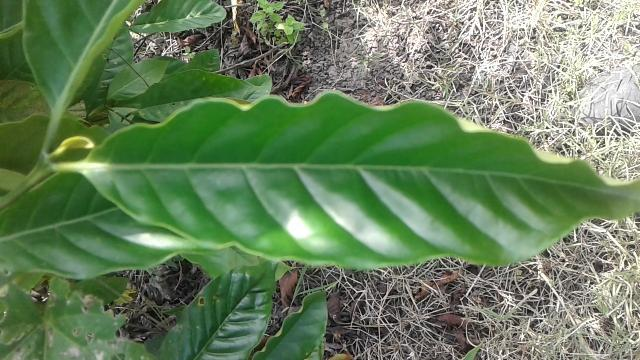healthy: (80, 86, 640, 274)
